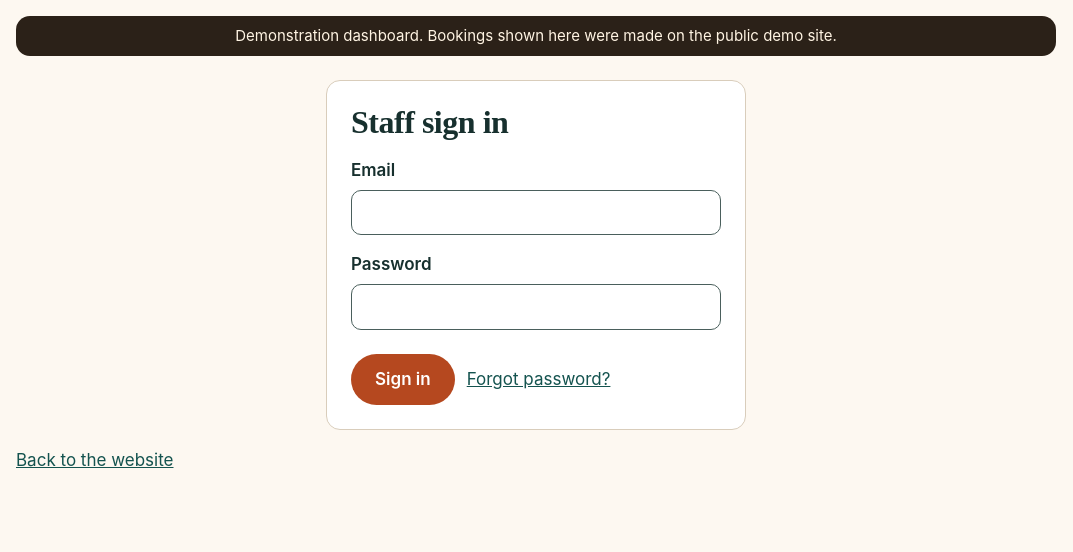
StaffApp › shows the server's error for a wrong password and stores nothing
The width and height of the screenshot is (1073, 552).
Type "maya@pawcare.example" into the field labelled "Email" at (536, 213), box [351, 190, 721, 235]
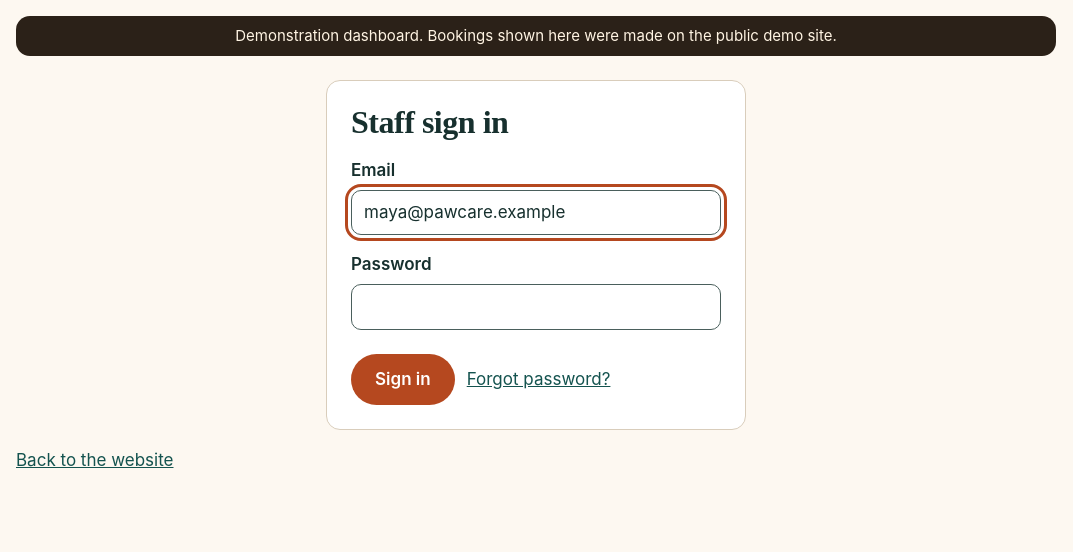
Type "correct-horse-battery" into the password field labelled "Password" at (536, 307), box [351, 284, 721, 330]
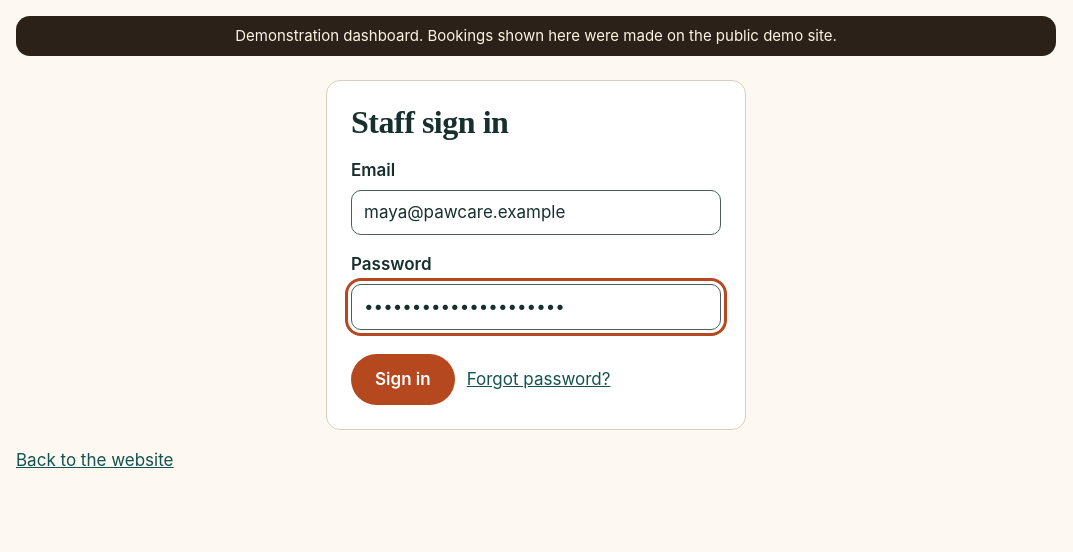
Click the button "Sign in" at (403, 379), box [351, 354, 455, 405]
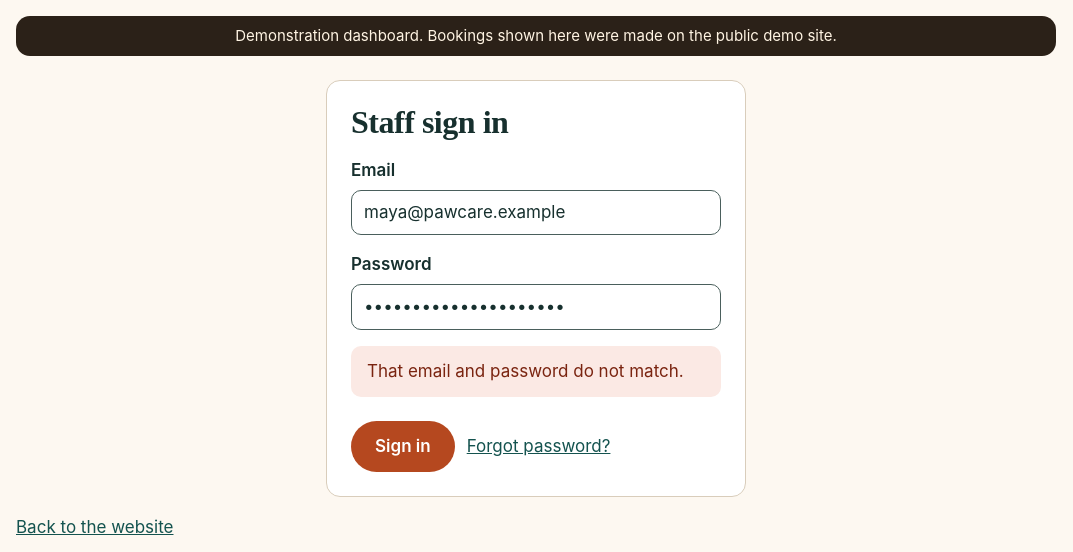
Now the message shows "do not match", box [367, 361, 684, 381]
